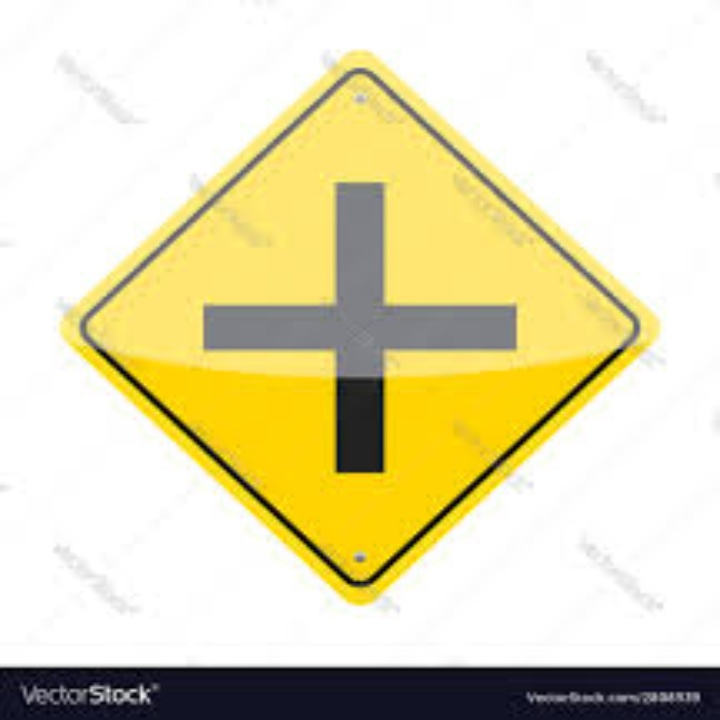inter: (195, 177, 530, 479)
